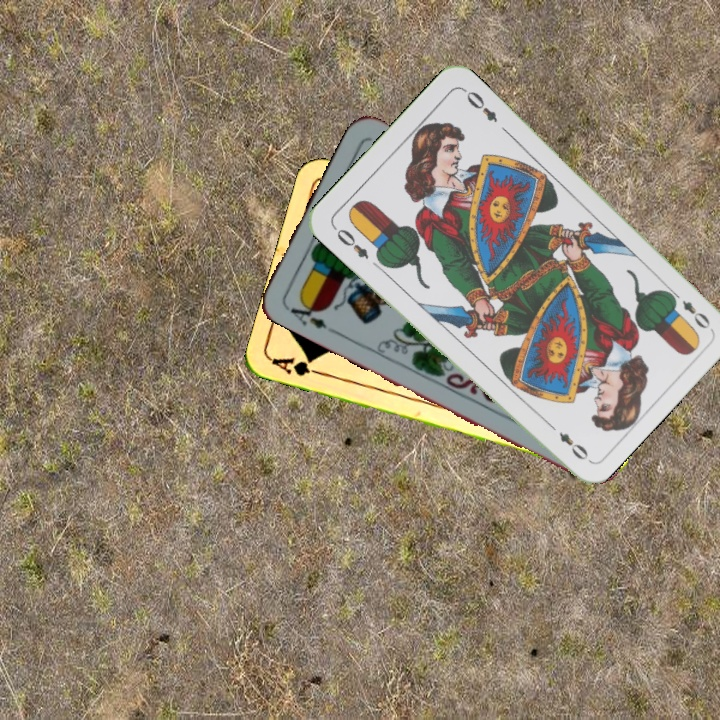EA: (281, 295, 337, 336)
EO: (665, 286, 713, 332), (329, 222, 372, 262)
GA: (268, 353, 327, 379)
